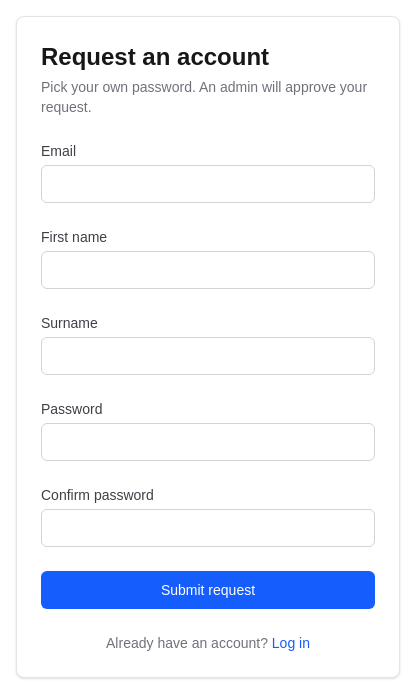
Test: DoctorRegisterPage › submits the request and shows the pending-approval confirmation
Type "new@x.com" into the field labelled "Email" at (208, 184), box [41,165,375,203]
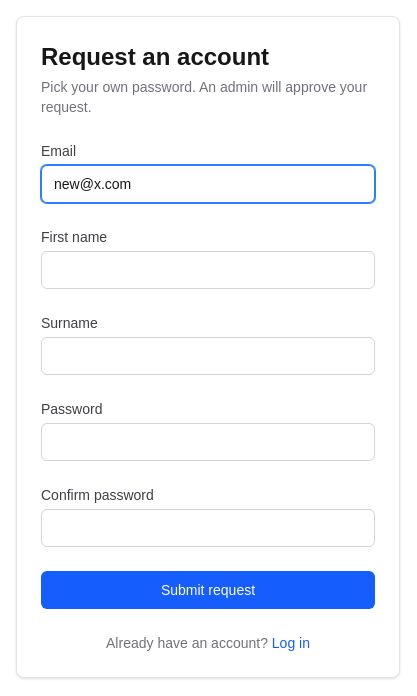
Type "New" into the field labelled "First name" at (208, 270), box [41,251,375,289]
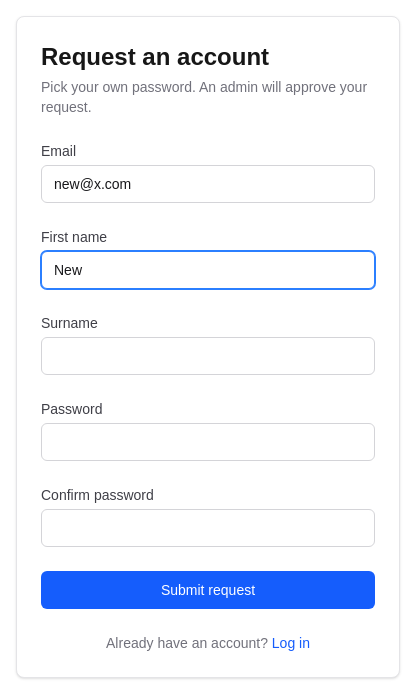
Type "Doc" into the field labelled "Surname" at (208, 356), box [41,337,375,375]
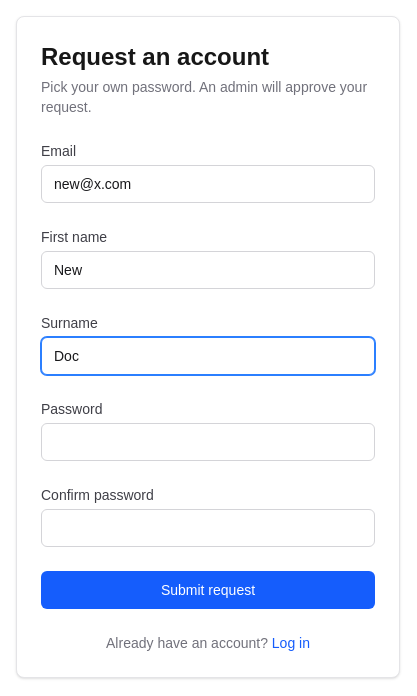
Type "secret1" into the password field labelled "Password" at (208, 442), box [41,423,375,461]
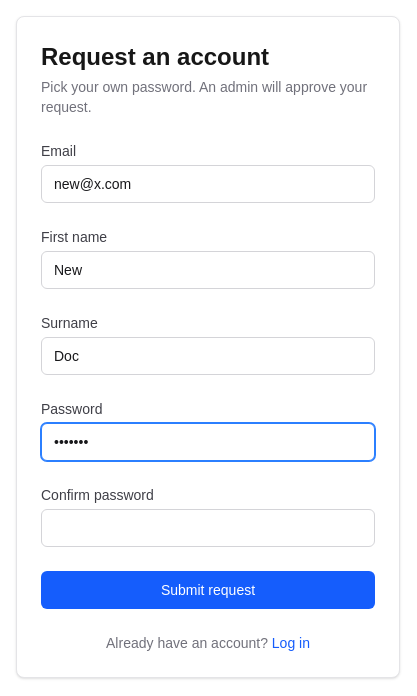
Type "secret1" into the password field labelled "Confirm password" at (208, 528), box [41,509,375,547]
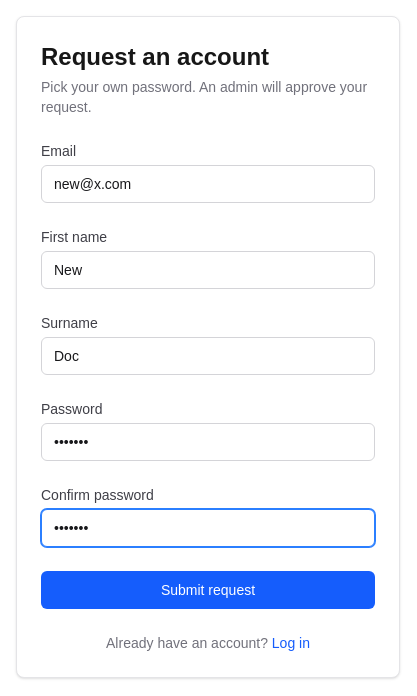
Click the button "Submit request" at (208, 590), box [41,571,375,609]
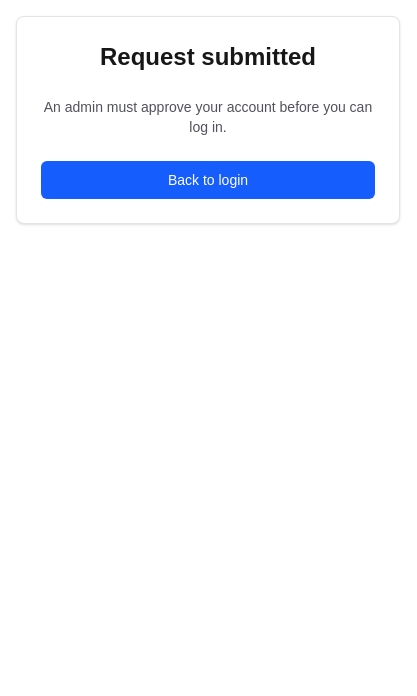
expect the heading "Request submitted" is shown: met, box [100,43,316,70]
expect the text "An admin must approve your account before you can log in." is shown: met, box [41,97,375,137]
